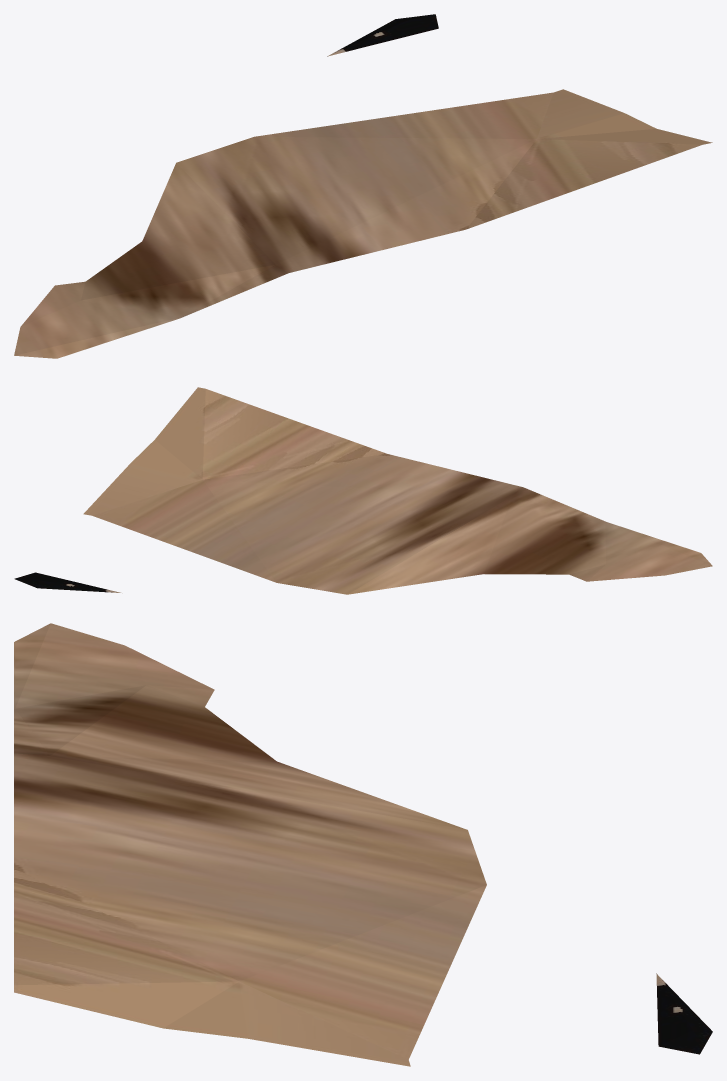
3 renders of one model, top to bottom at view 1: azimuth 30°, elevation 25°; view 2: azimuth 150°, elevation 25°; view 3: azimuth 270°, elevation 25°, orthographic. The views are drawn at different scales.
Size of the model in its own units: 1.01 by 0.0798 by 0.6739.
1 material, 1 textured.
